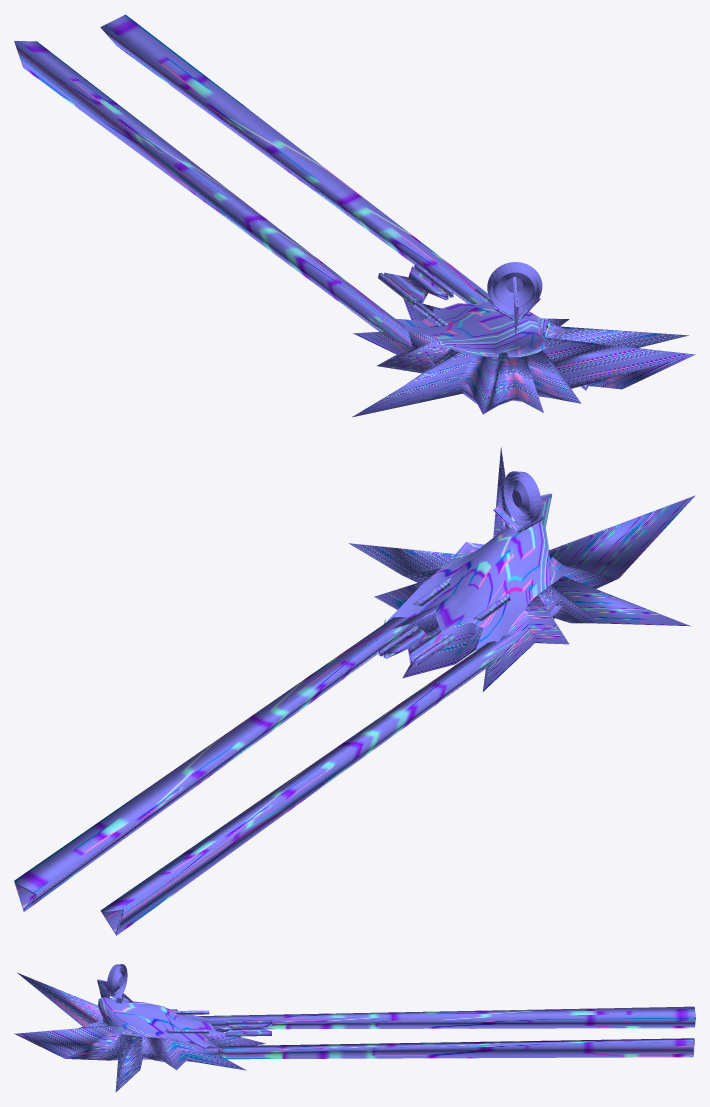
The model's file is gunship13.obj.
The picture shows the model from 3 angles, top to bottom: view 1: azimuth 30°, elevation 25°; view 2: azimuth 150°, elevation 25°; view 3: azimuth 270°, elevation 25°; orthographic projection. The views are drawn at different scales.
Parts seen in each view (by area): view 1: Ship_Body, Gun_2, Gun_1, Driving_Seat, radar; view 2: Ship_Body, Gun_2, Gun_1, Driving_Seat, radar; view 3: Gun_2, Gun_1, Ship_Body, Driving_Seat, radar, Gun_Stripes_2, Gun_Stripe_4.
Boxes of the visible parts, <box> form: Ship_Body: <box>352,298,695,417</box>; Gun_2: <box>14,41,477,404</box>; Gun_1: <box>100,14,589,390</box>; Driving_Seat: <box>396,298,566,357</box>; radar: <box>487,262,542,335</box>; Ship_Body: <box>348,447,695,691</box>; Gun_2: <box>100,606,561,935</box>; Gun_1: <box>14,617,410,911</box>; Driving_Seat: <box>384,521,570,650</box>; radar: <box>503,471,552,526</box>; Gun_2: <box>198,1006,695,1029</box>; Gun_1: <box>88,1038,694,1059</box>; Ship_Body: <box>14,972,265,1092</box>; Driving_Seat: <box>98,997,228,1054</box>; radar: <box>97,964,127,998</box>; Gun_Stripes_2: <box>225,1022,272,1027</box>; Gun_Stripe_4: <box>225,1031,271,1036</box>.
Size of the model in its own units: 6.99 by 2.57 by 18.85.
